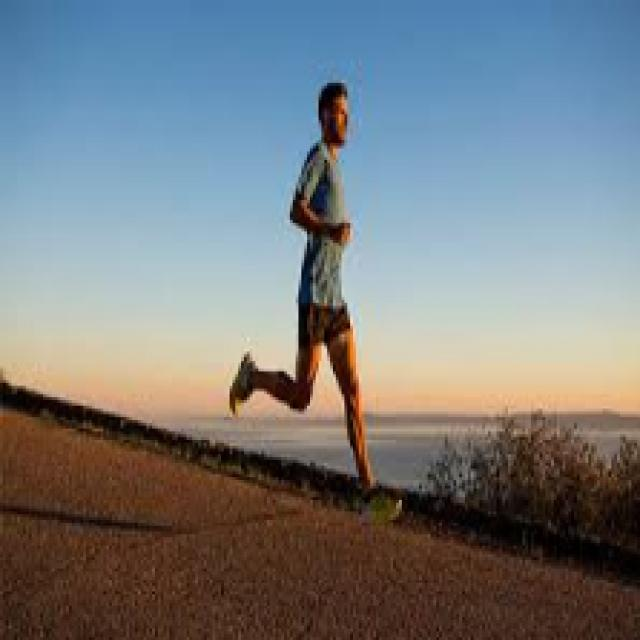running: (227, 80, 413, 525)
